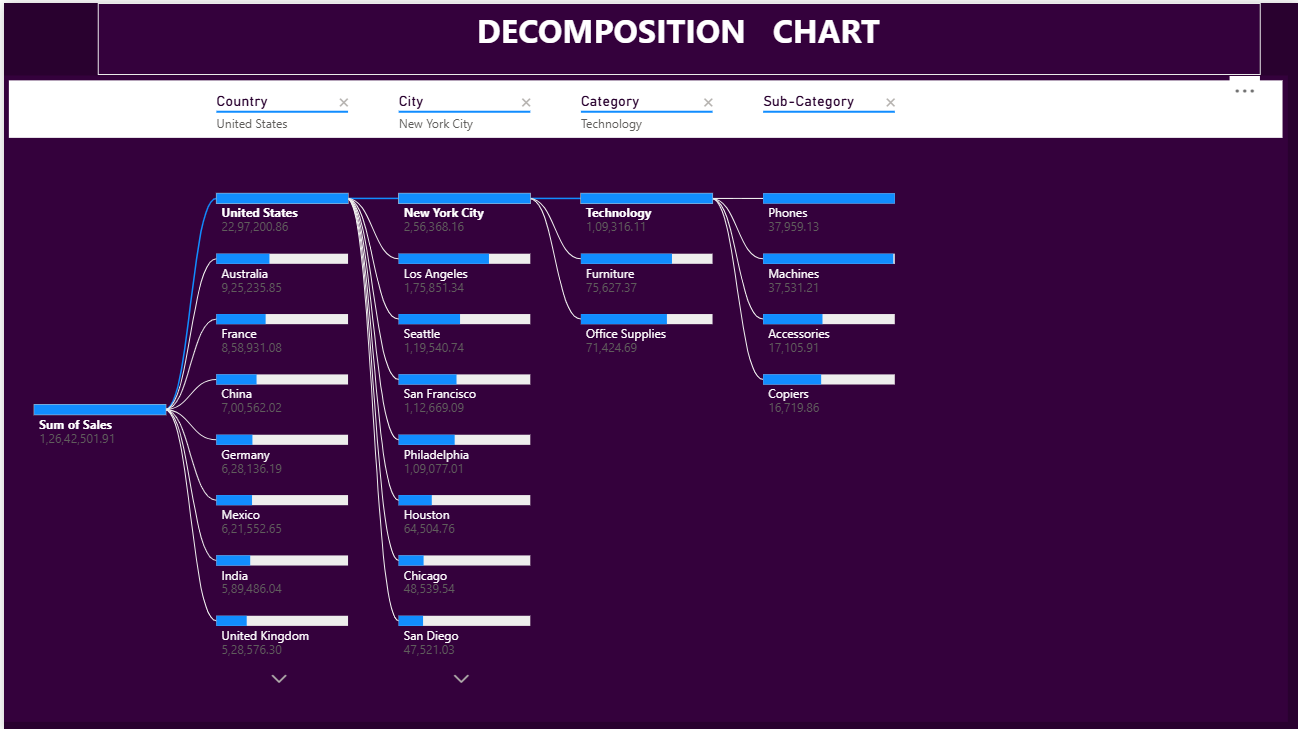

The dashboard page shown, as its layout file describes it:
{"tool":"powerbi","page":{"name":"Decomposition","canvas":[1280,720],"ordinal":2},"visuals":[{"type":"decompositionTreeVisual","fields":{"Analyze":["Sum(Orders.Sales)"],"ExplainBy":["Orders.Country","Orders.City","Orders.Category","Orders.Sub-Category"]},"box":[0,71.2,1268,638.2],"z":0},{"type":"textbox","box":[92.9,0,1147.3,71.2],"z":1000}]}

Visuals, with their boxes in screenshot pixels (x1, y1, x2, y2), scaled from the page's 1280x720 canvas onto the 1298x729 screenshot:
decompositionTreeVisual - Sum(Orders.Sales) x Orders.Country: 0, 72, 1286, 718
textbox: 94, 0, 1258, 72
